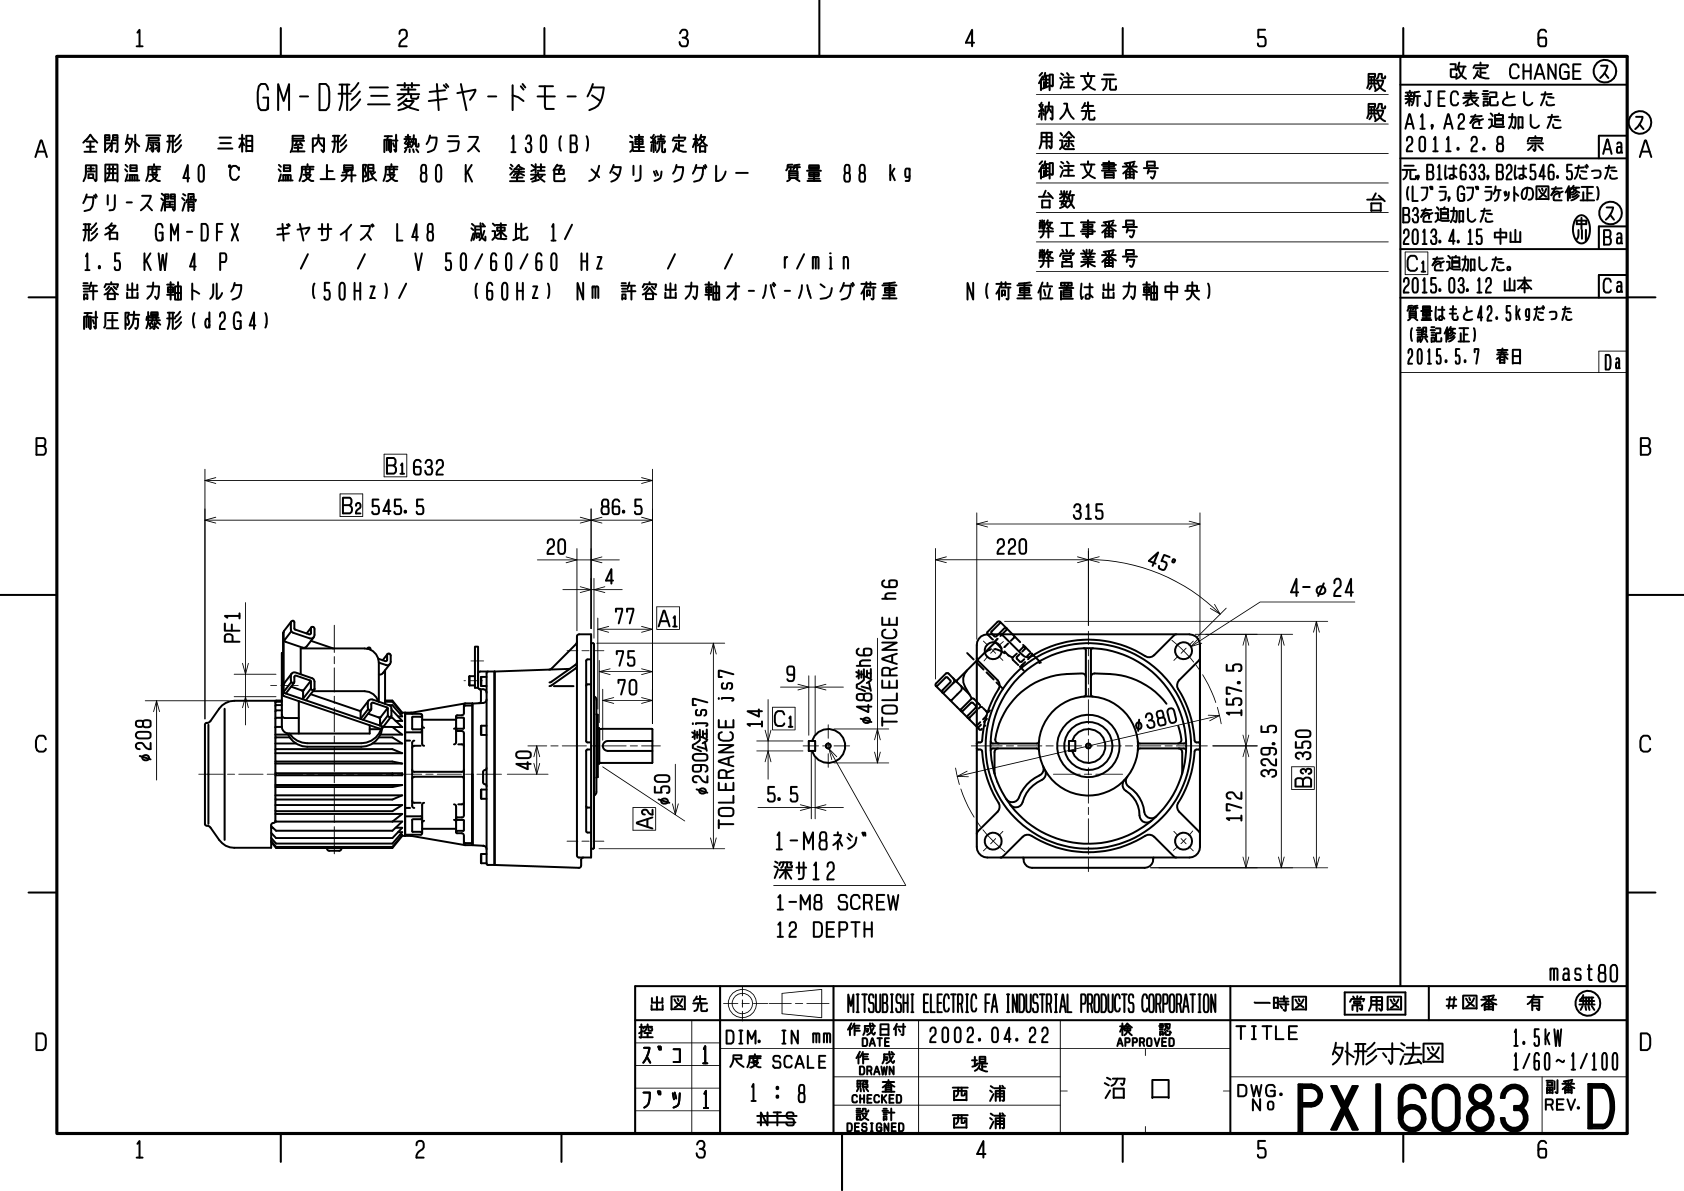GM_SP_屋内＿三相_フランジ: (130, 420, 1377, 951)
